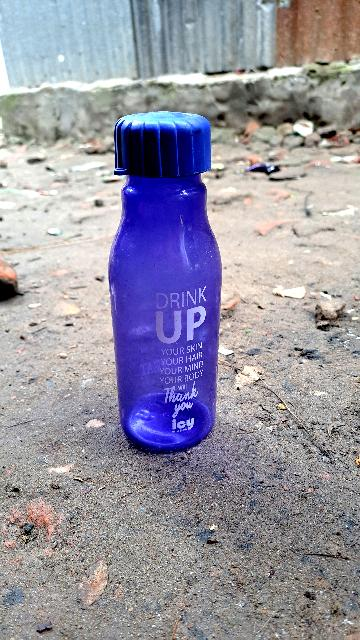bottle: (110, 106, 218, 455)
